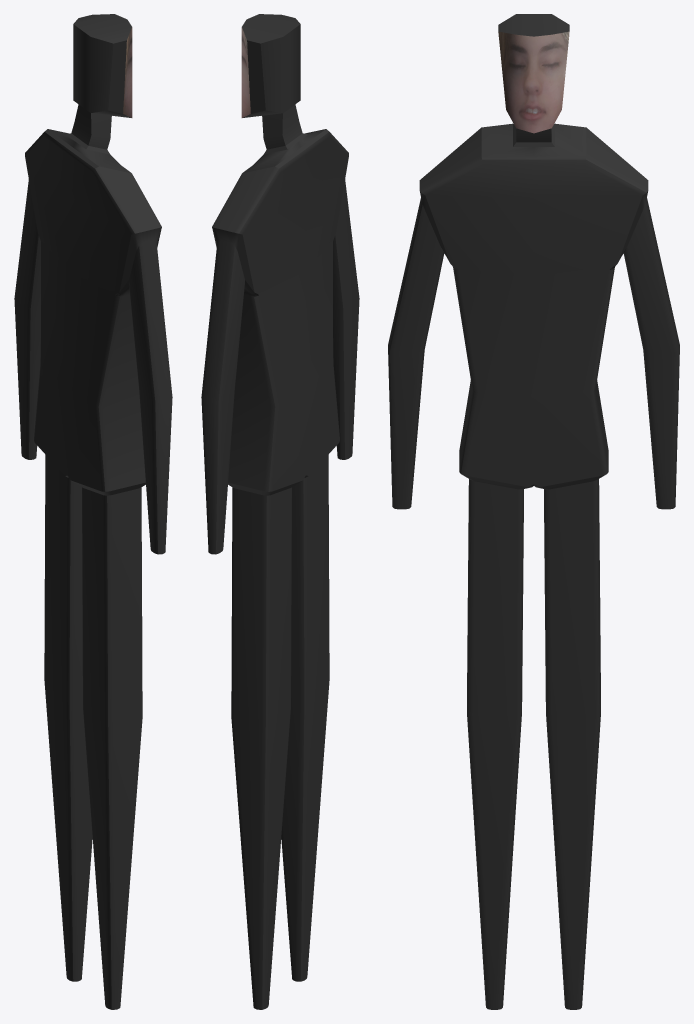
The model's file is fox_dead.fbx.
The picture shows the model from 3 angles, left to right: view 1: azimuth 30°, elevation 25°; view 2: azimuth 150°, elevation 25°; view 3: azimuth 270°, elevation 25°; orthographic projection. The views are drawn at different scales.
Parts seen in each view (by area): view 1: fox_dead; view 2: fox_dead; view 3: fox_dead.
Boxes of the visible parts, box(x1,y1,x2,y2) form: fox_dead: box(14, 14, 172, 1009); fox_dead: box(201, 14, 359, 1009); fox_dead: box(388, 14, 679, 1009).
Bounding box in the file's own units: 0.7035 × 10.93 × 2.93.
